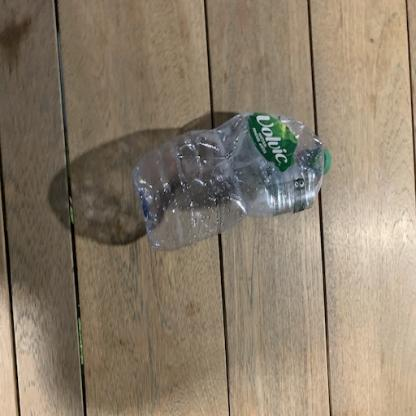trash: (130, 112, 333, 252)
